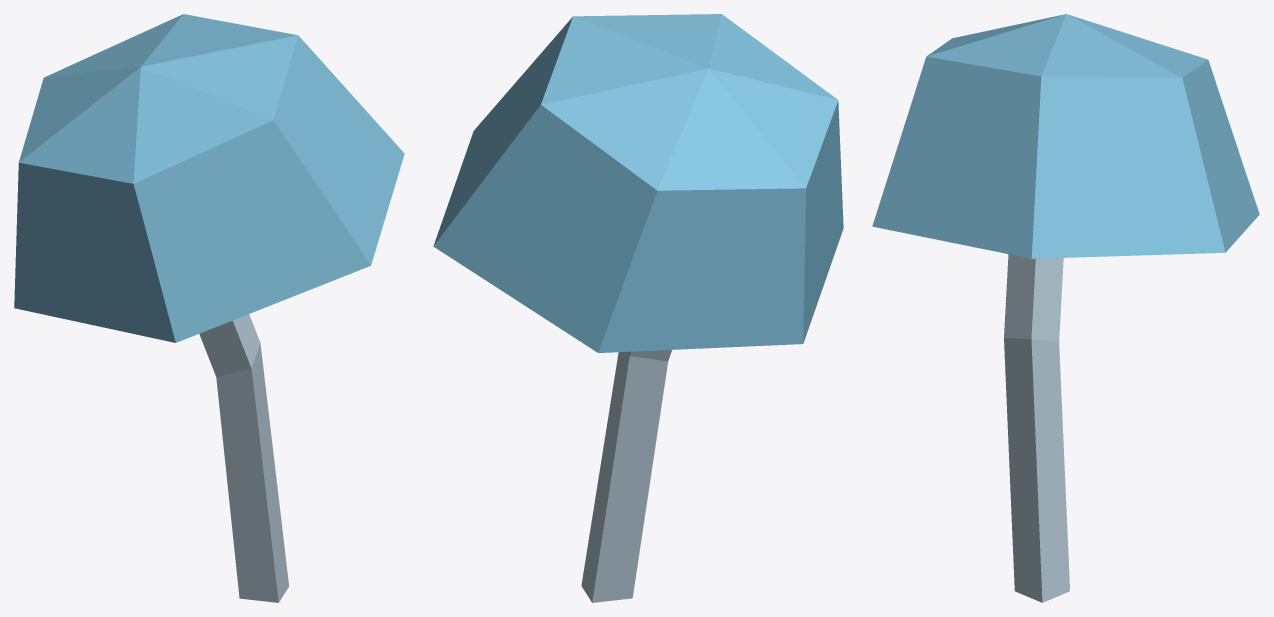
Rendered from Mushroom_a_03.fbx.
3 views of the same model, side by side, from view 1: azimuth 30°, elevation 25°; view 2: azimuth 150°, elevation 25°; view 3: azimuth 270°, elevation 25° (orthographic). The views are drawn at different scales.
Visible parts, largest first — view 1: Mushroom_a_03; view 2: Mushroom_a_03; view 3: Mushroom_a_03.
Boxes of the visible parts, x1,y1,x2,y2 form: Mushroom_a_03: [14, 14, 404, 602]; Mushroom_a_03: [433, 14, 843, 602]; Mushroom_a_03: [872, 14, 1259, 602].
Bounding box in the file's own units: 12.39 × 18.33 × 12.13.
